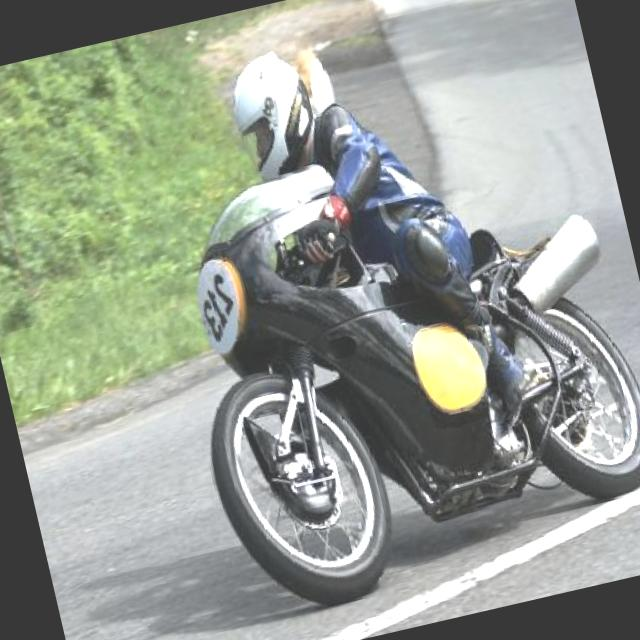Person: (230, 14, 532, 442)
